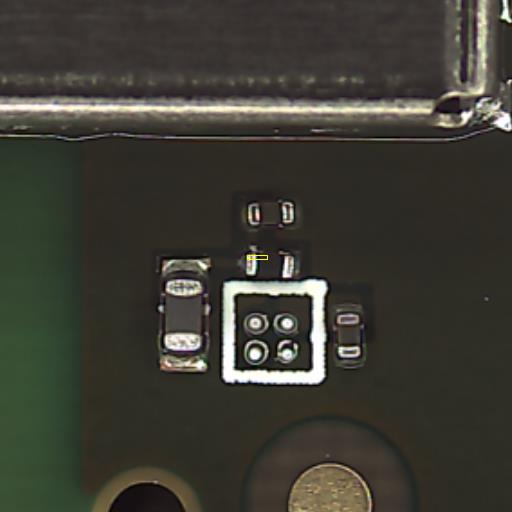bottom_layer: (158, 256, 210, 371), (332, 302, 367, 368), (239, 199, 300, 231), (239, 252, 302, 279)
top_layer: (166, 279, 202, 349), (247, 200, 294, 224), (336, 313, 361, 358), (246, 253, 293, 276)
